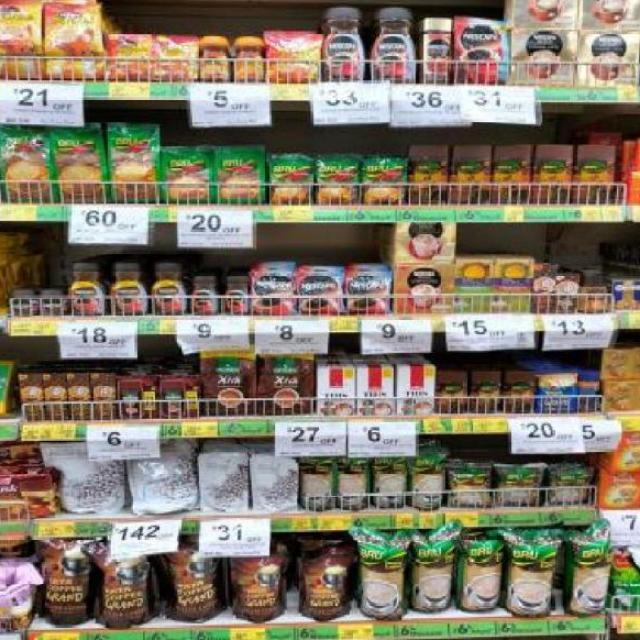Coffee: (44, 4, 102, 78), (368, 9, 417, 83), (456, 18, 507, 84), (322, 8, 367, 82), (268, 33, 319, 81), (295, 273, 343, 313), (252, 272, 295, 314), (346, 273, 389, 315), (199, 36, 233, 84), (233, 36, 266, 82), (189, 274, 220, 315), (223, 274, 251, 315), (38, 291, 65, 315), (11, 290, 37, 313)
